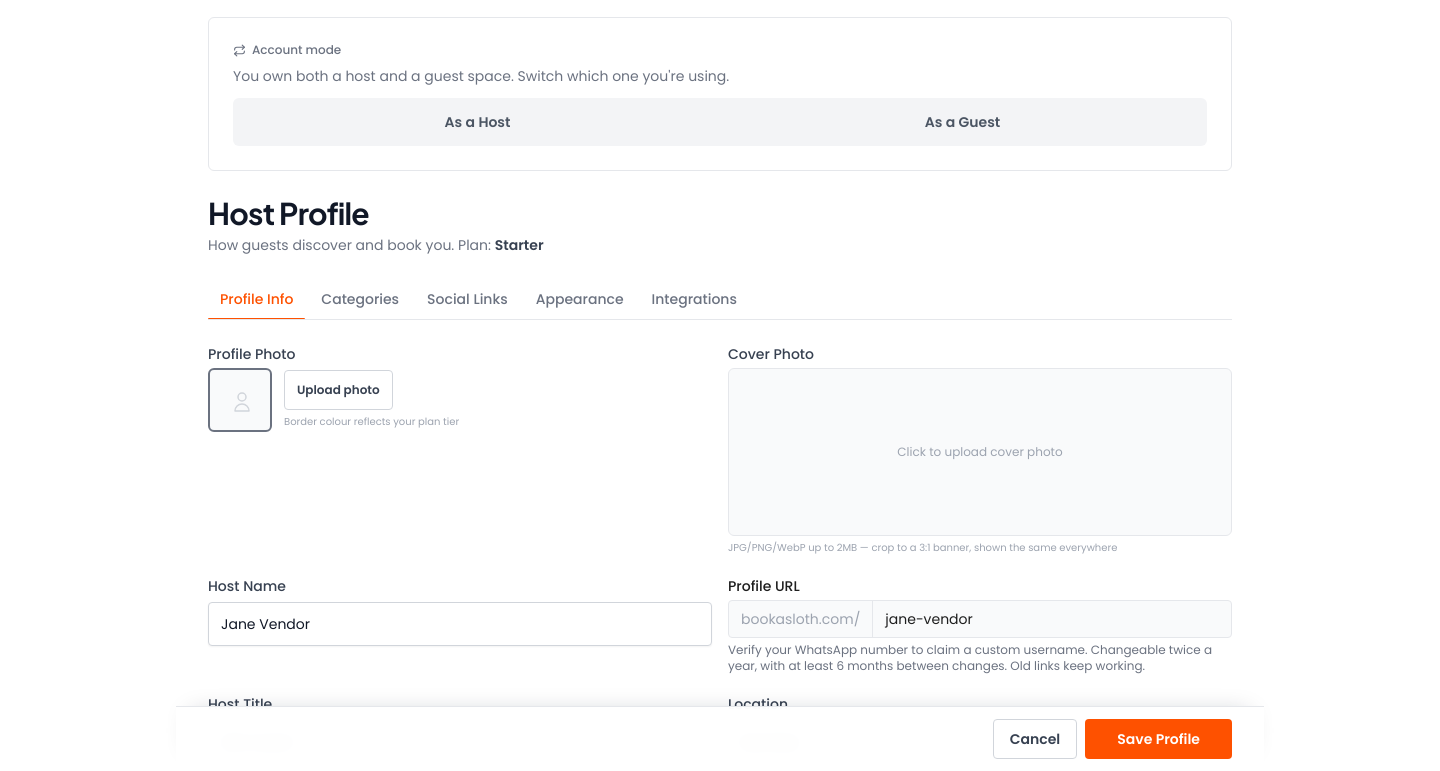
Scenario: ProfileSetup — Social Links › shows all 9 social platforms
Click the tab "Social Links".
click(467, 299)  # box [415, 279, 520, 319]
(page scrolled)
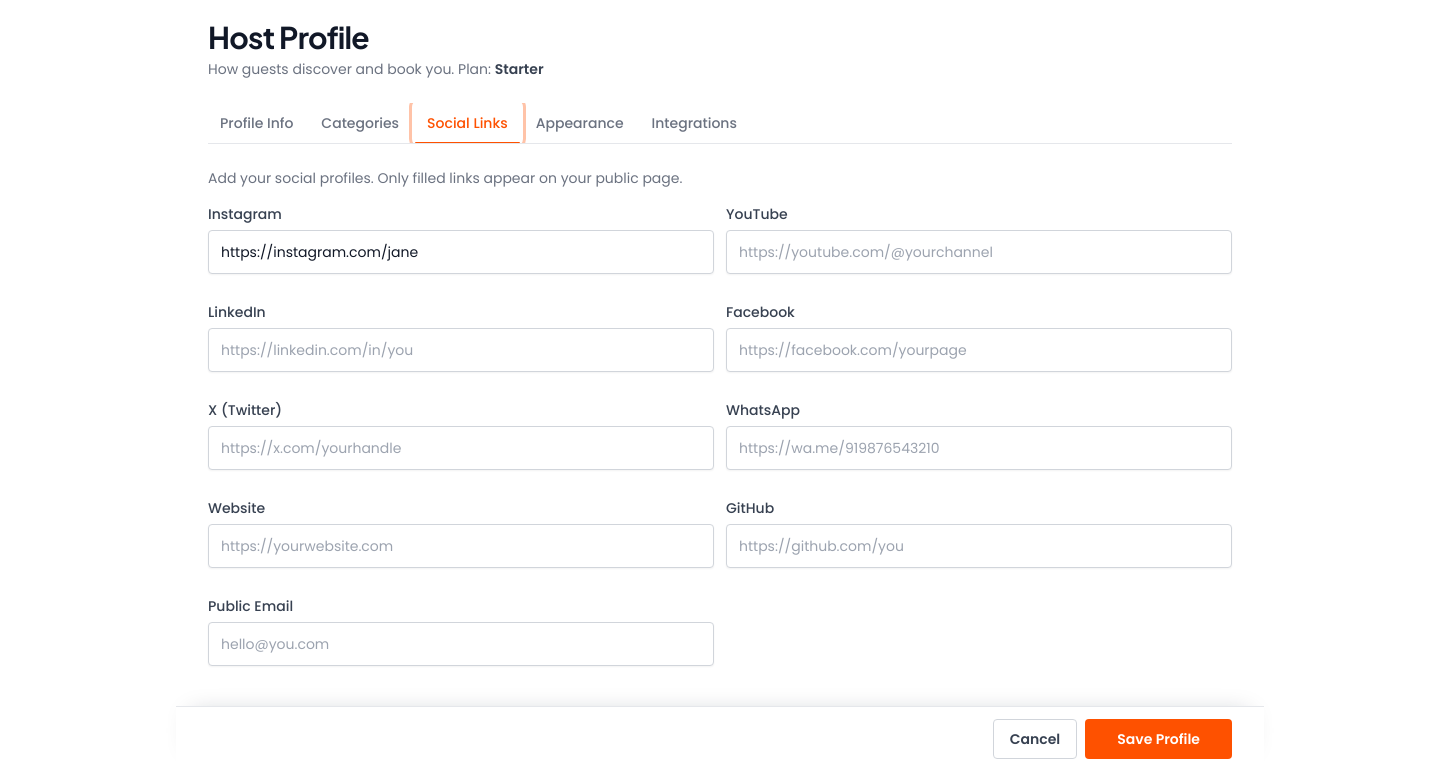
Expected: the text "Instagram" is shown, [208, 204, 282, 224]
Expected: the text "YouTube" is shown, [726, 204, 788, 224]
Expected: the text "LinkedIn" is shown, [208, 302, 266, 322]
